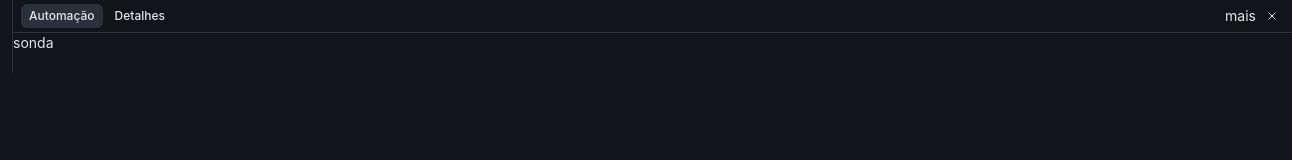
clicking a tab activates it; the body it hides stays mounted, collapsed, never remounted (#342)
The image size is (1292, 160).
Click the tab "Detalhes" at coordinates (140, 16), box [106,4,173,28]
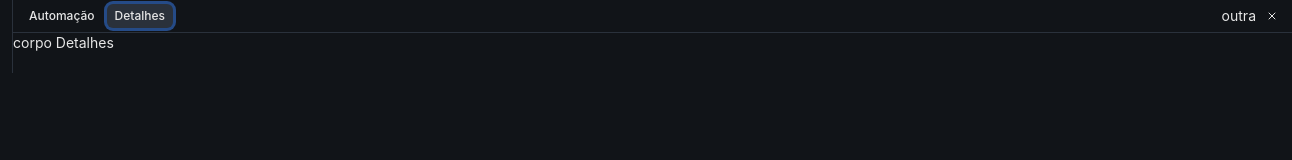
Expected: the text "corpo Detalhes" is shown, [13,34,114,51]
Expected: the button "outra" is shown, [1222,6,1256,26]
Expected: the text "sonda" is gone
